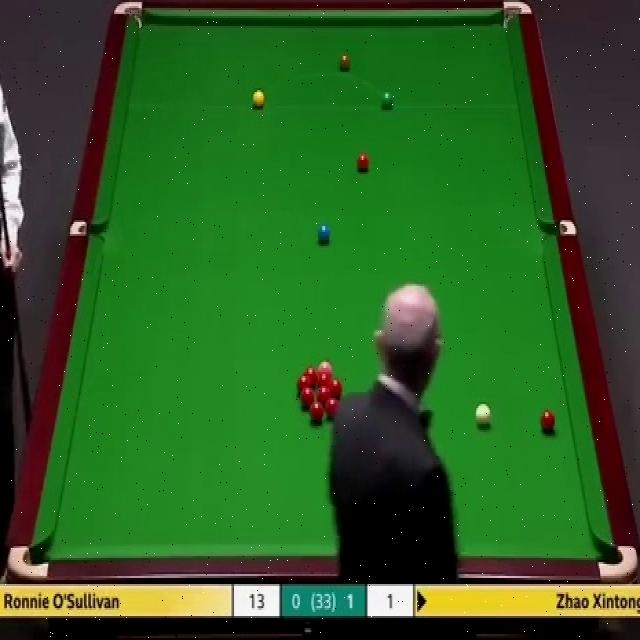blue-ball: (316, 222, 331, 245)
brown-ball: (338, 54, 351, 74)
green-ball: (379, 91, 395, 112)
pink-ball: (318, 361, 332, 372)
red-ball: (325, 398, 340, 422), (540, 410, 556, 432), (357, 154, 371, 175), (301, 388, 316, 406), (304, 369, 318, 388), (310, 402, 323, 422), (298, 376, 311, 396), (329, 379, 342, 398), (317, 386, 331, 401), (318, 371, 330, 387)
white-ball: (474, 405, 492, 430)
yellow-ball: (252, 90, 265, 110)
